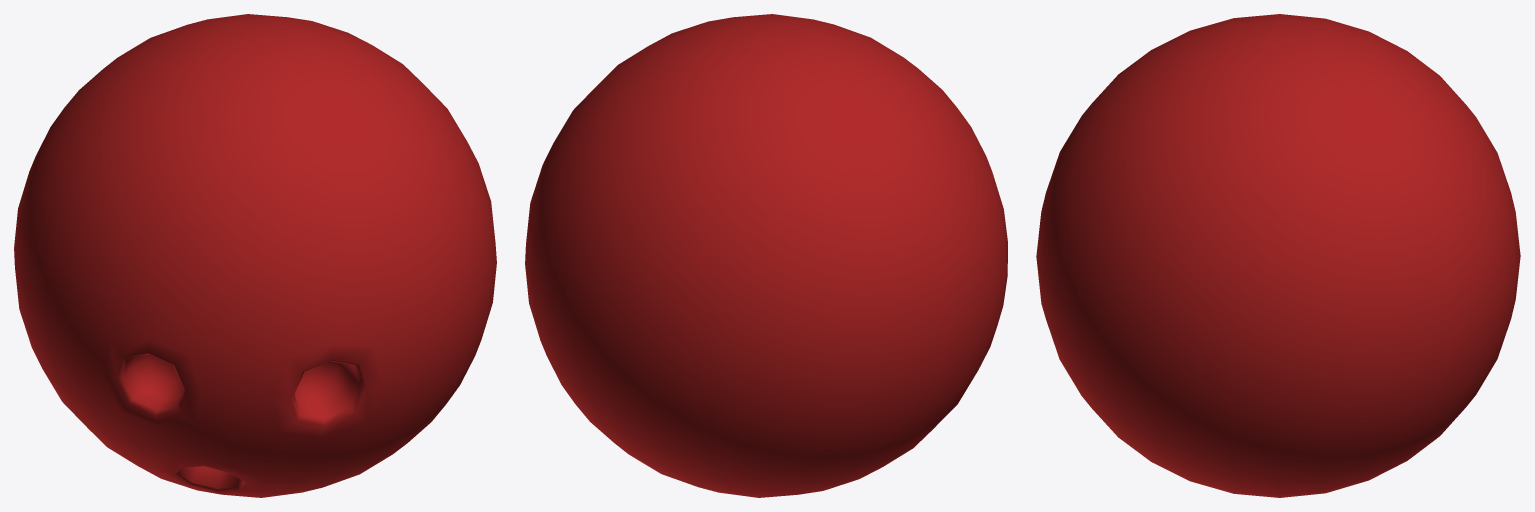
The model's file is redBowlingBall.glb.
3 views of the same model, side by side, from view 1: azimuth 30°, elevation 25°; view 2: azimuth 150°, elevation 25°; view 3: azimuth 270°, elevation 25° (orthographic).
Visible parts, largest first — view 1: Bowling_ball016_Material #4303_0; view 2: Bowling_ball016_Material #4303_0; view 3: Bowling_ball016_Material #4303_0.
Boxes of the visible parts, x1,y1,x2,y2 form: Bowling_ball016_Material #4303_0: [14, 14, 496, 497]; Bowling_ball016_Material #4303_0: [525, 14, 1007, 497]; Bowling_ball016_Material #4303_0: [1036, 14, 1520, 497].
Bounding box in the file's own units: 2.08 × 2.08 × 2.08.
